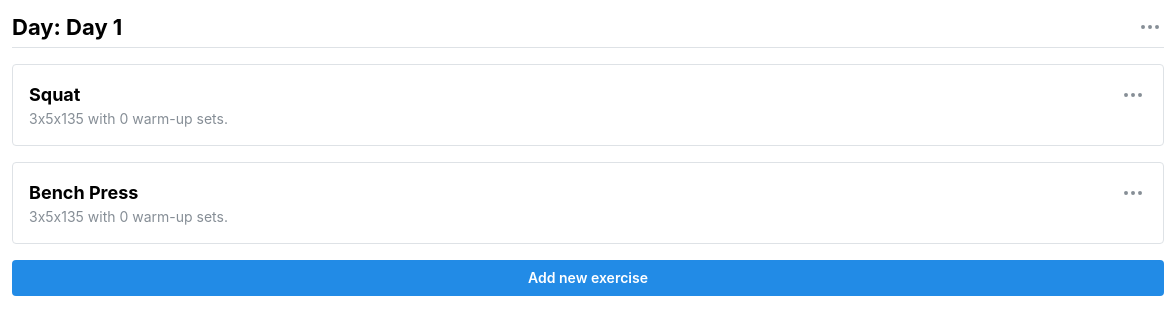
Test: PlanDay › disables Move up for the first exercise in the first day
Step 1. Click the button named "Squat menu" → (1133, 95), box top-left (1119, 81), bottom-right (1147, 109)
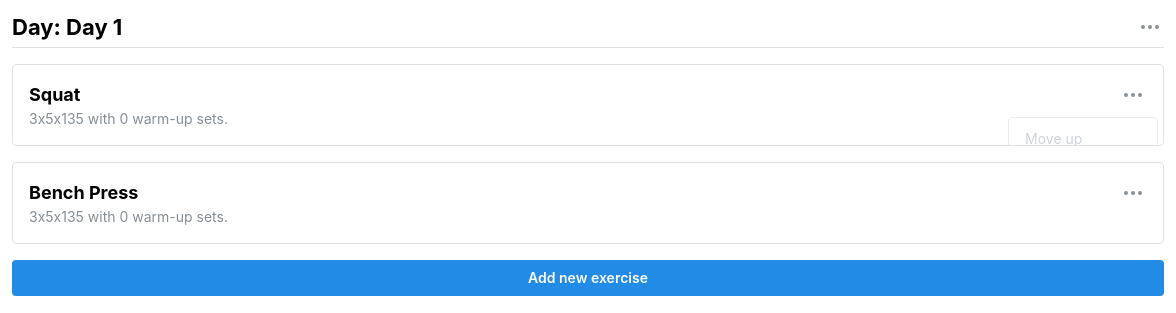
Expected: the menu item "Move up" is disabled, top-left (1013, 122), bottom-right (1153, 146)
